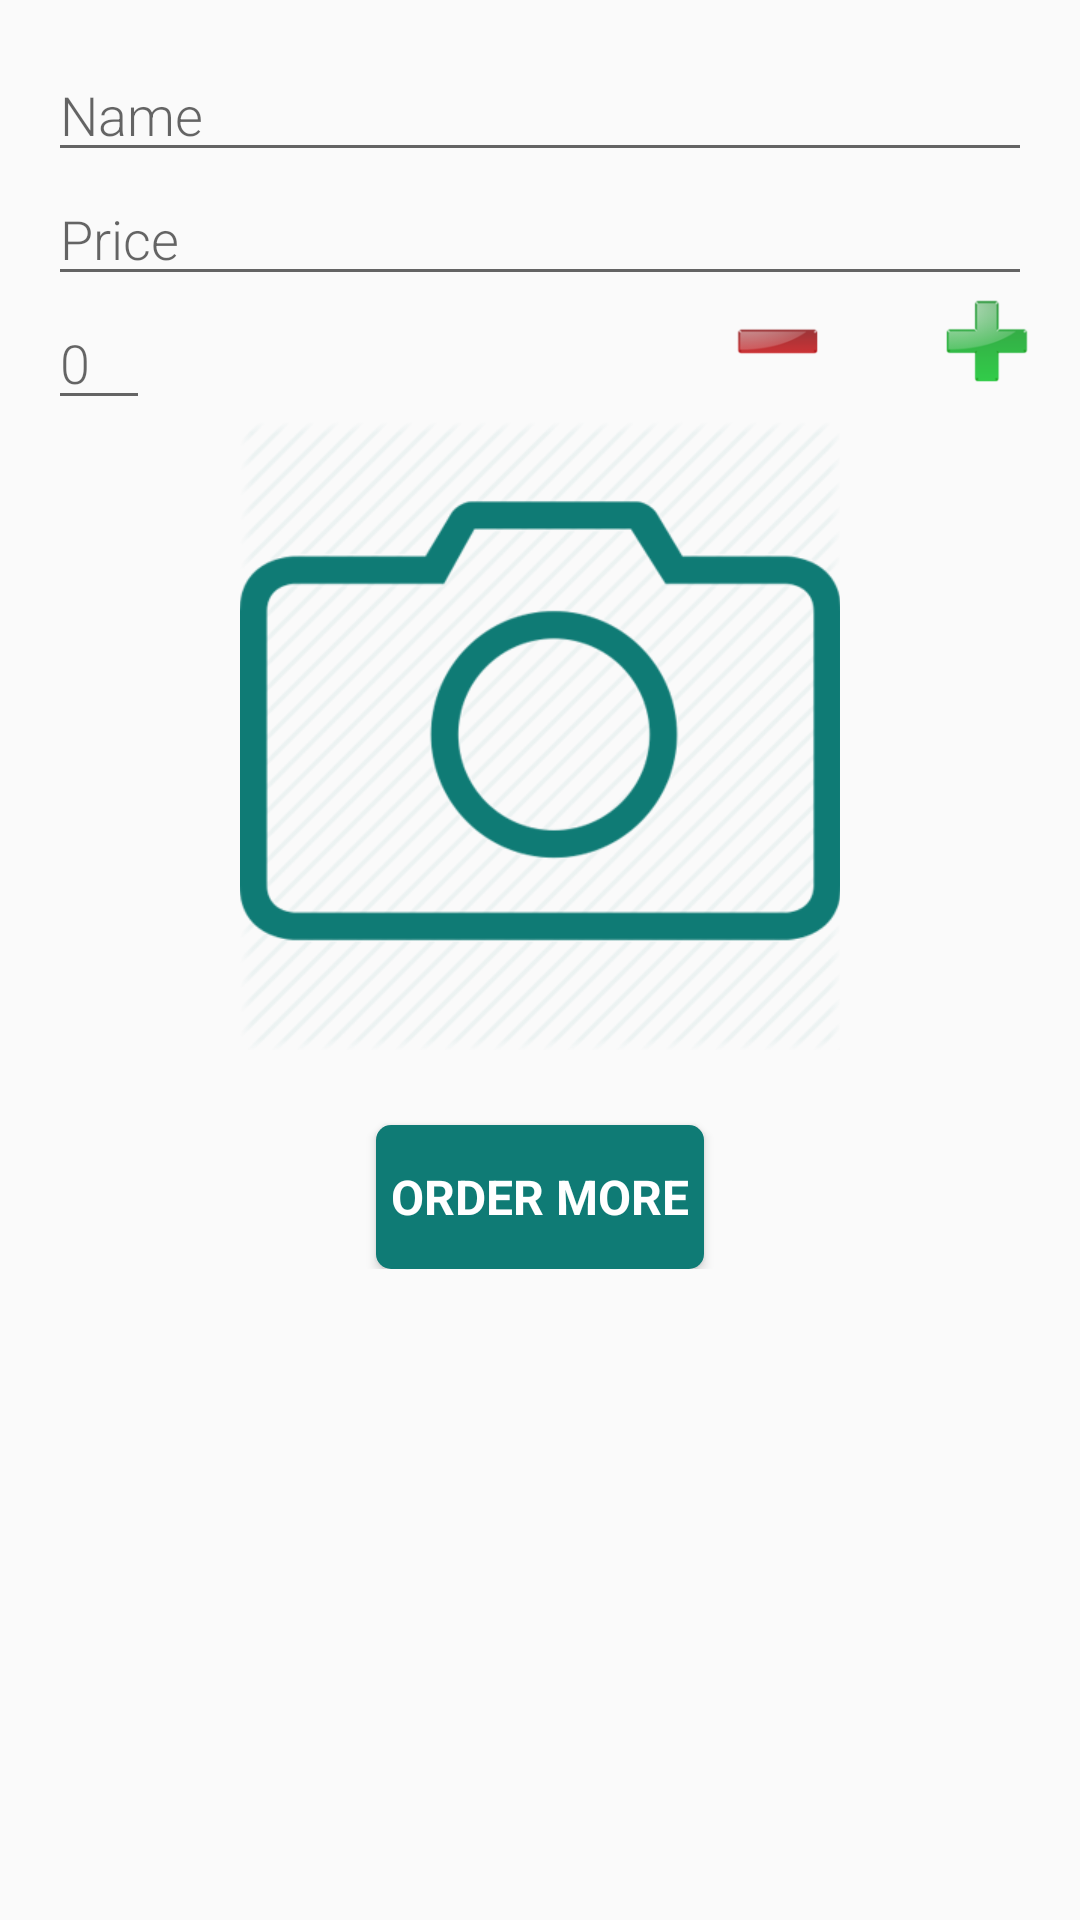

Icons on this 1080 × 1920 Android screen, each with its box as (x1, y1, x2, y2):
minus: (737, 329, 818, 354)
plus: (946, 300, 1028, 382)
